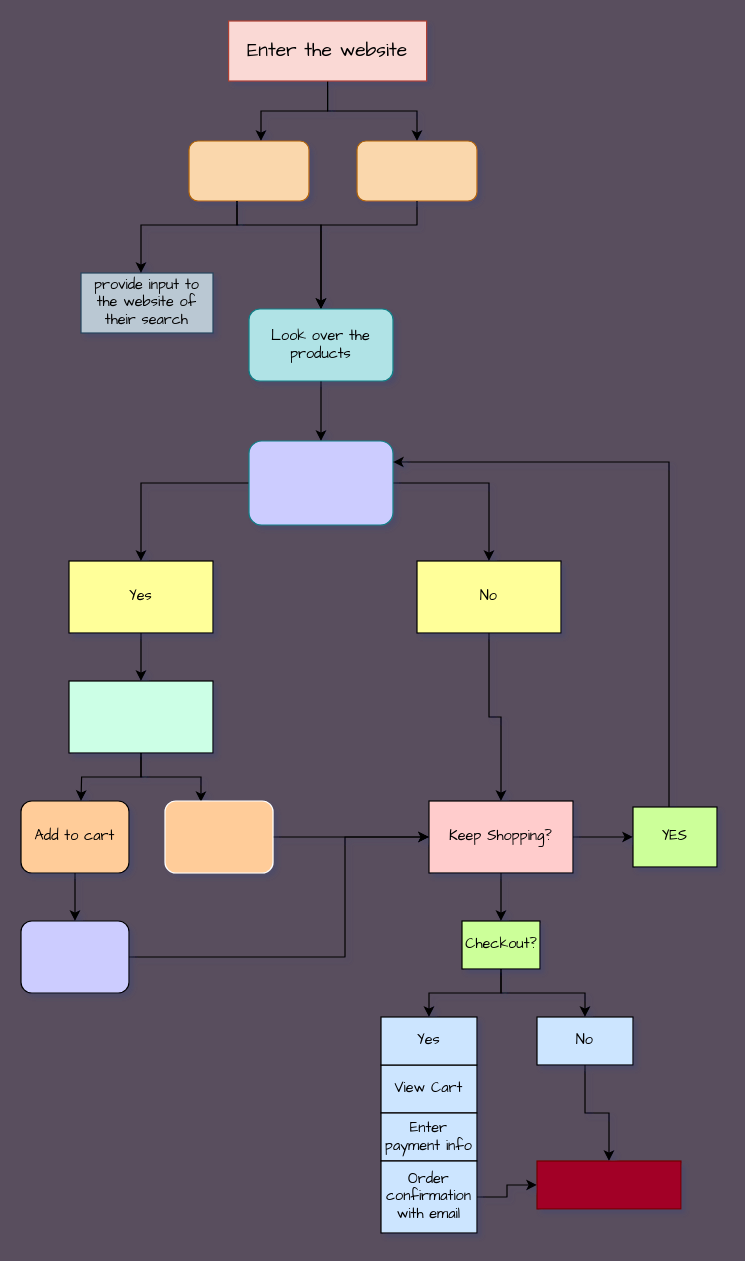
Some shapes in this 745 by 1261 pixel diagram are drawn without their labels. The shapes that lost their labels are listed below. From the top down, each one's centre as x and y in pixels, then its label:
[248,170]: search for a product
[416,170]: explore the products on the home page
[320,482]: Option to view a specific product?
[140,716]: Product's webpage opens
[218,836]: Don't add to cart
[74,956]: Added to cart confirmation
[608,1184]: Leave website
